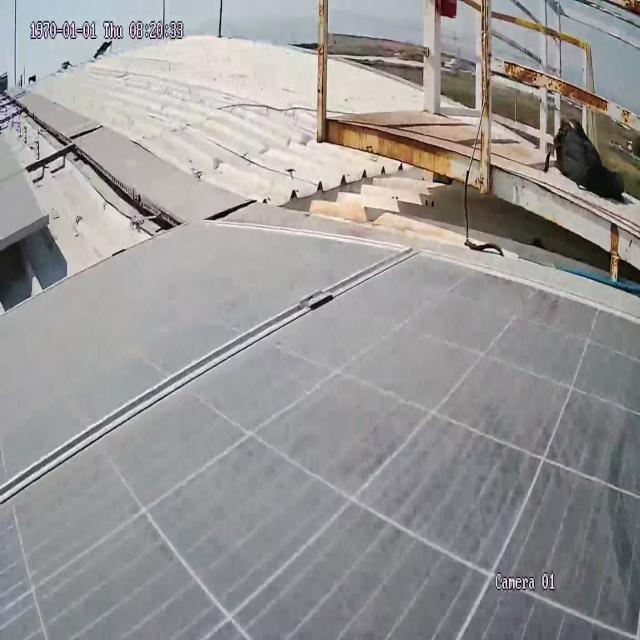interior panel: (0, 236, 448, 545)
